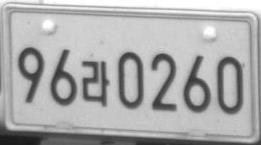0: (216, 55, 244, 114), (117, 51, 144, 109)
2: (150, 52, 177, 111)
6: (182, 55, 211, 113), (49, 49, 78, 106)
9: (17, 46, 44, 103)
라: (81, 60, 110, 106)
